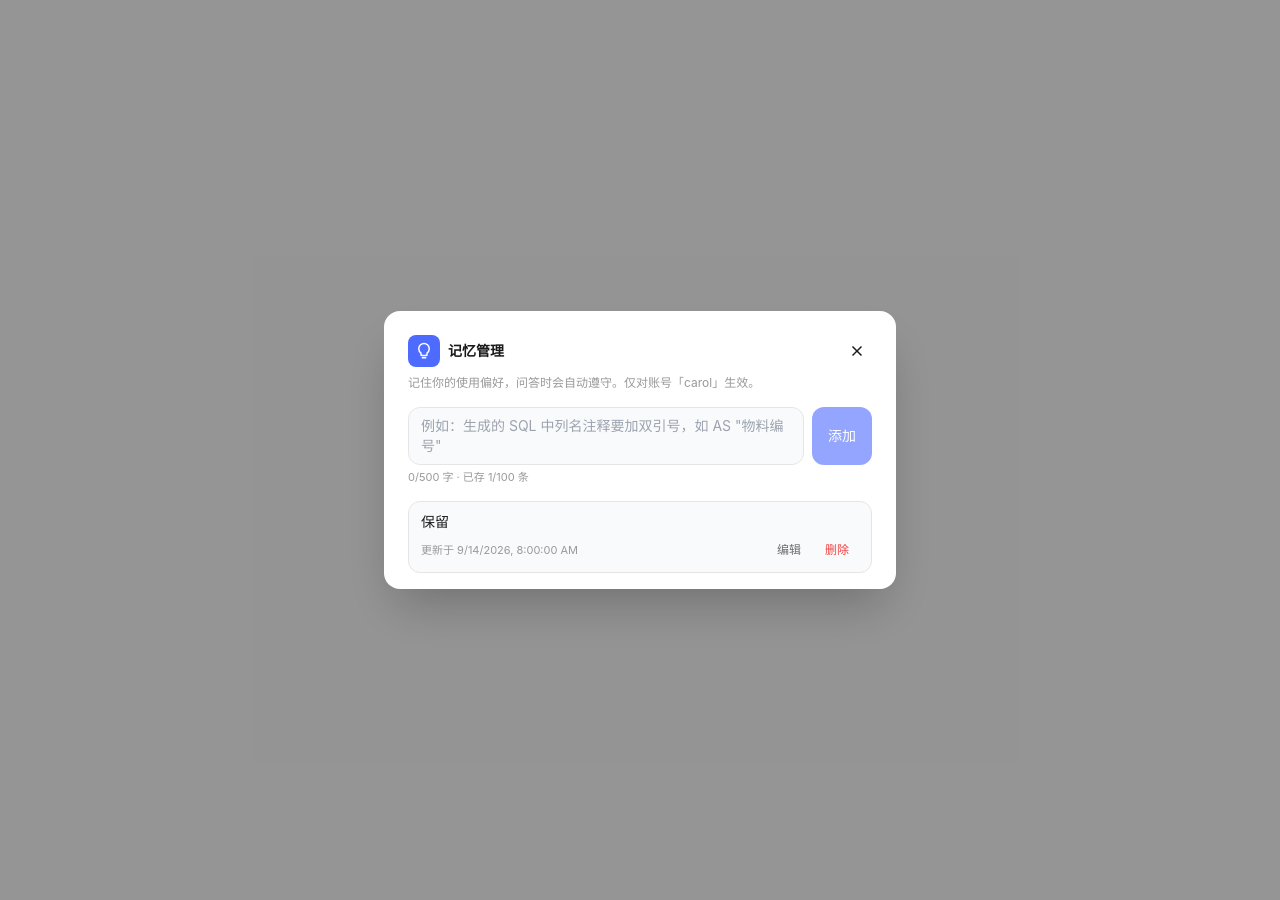
Test: MemoryManage › 接口报错时展示错误信息且不清空列表
The width and height of the screenshot is (1280, 900).
Expected: the text "保留" is shown, x1=421 y1=513 x2=449 y2=530
Type "再添一条" into the text box with placeholder "例如：生成的 SQL 中列名注释要加双引号，如 AS \"物料编号\"". click: (606, 436)
box: x1=408 y1=407 x2=804 y2=465
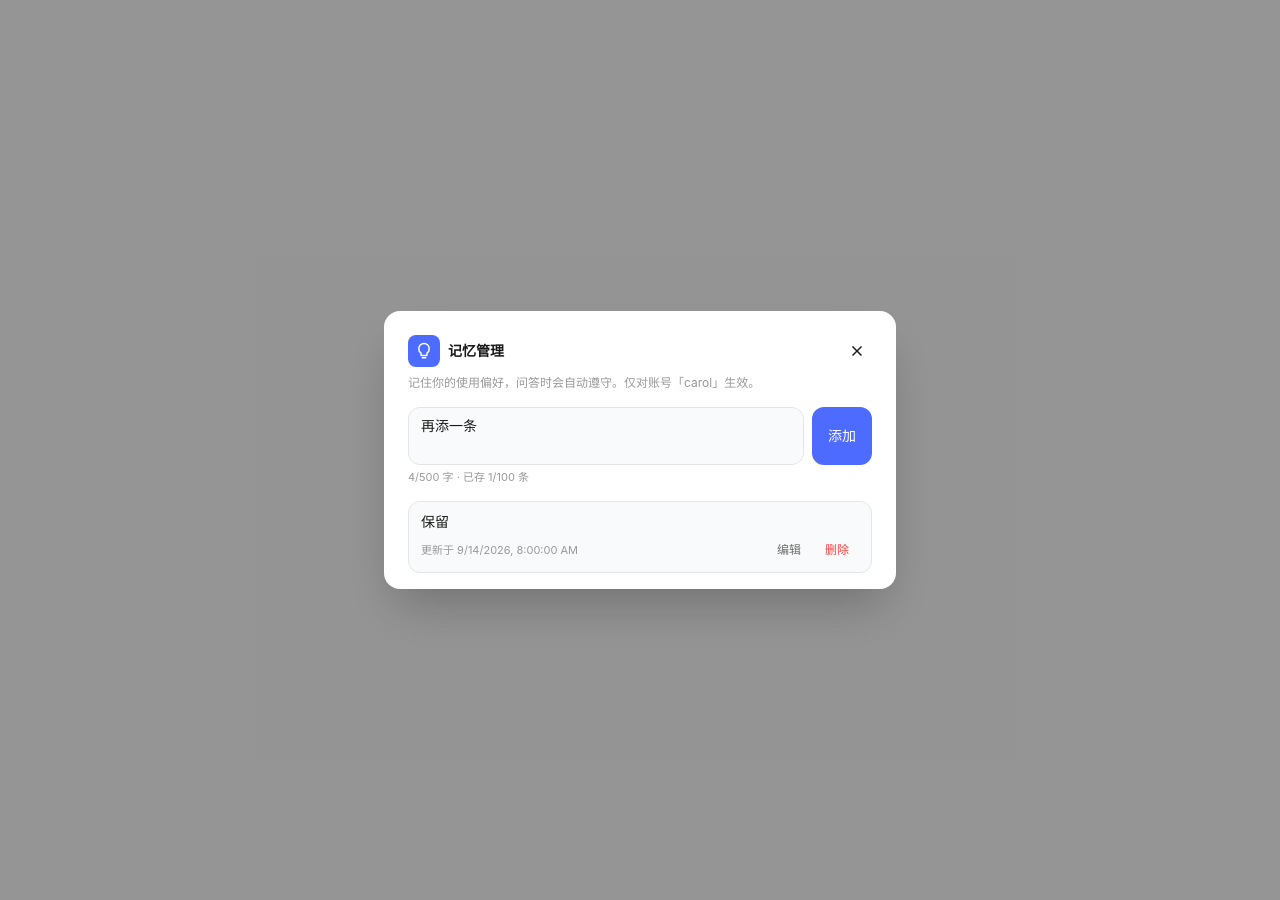
Click the button "添加". click: (842, 436)
box: x1=812 y1=407 x2=872 y2=465
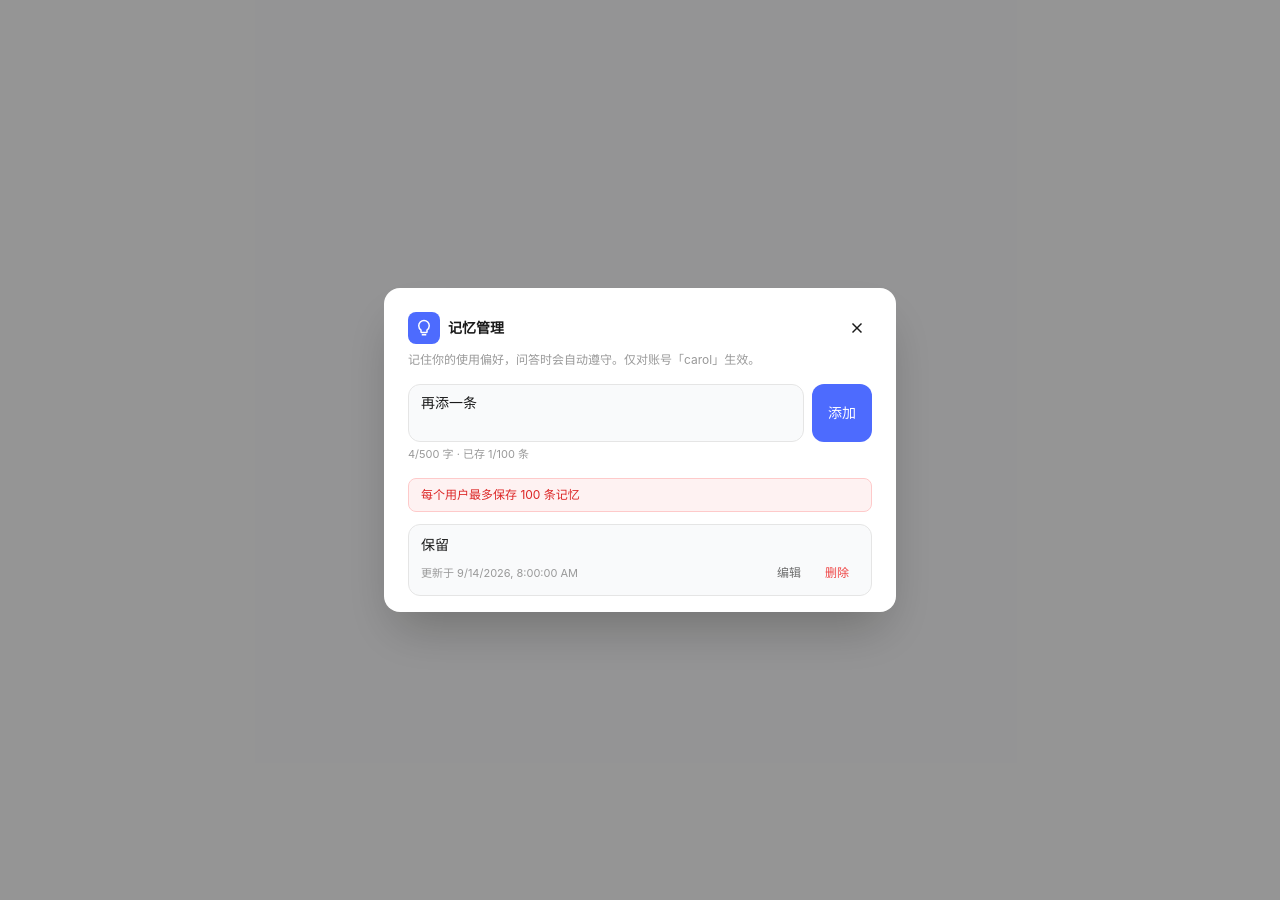
Expected: the text "保留" is shown, x1=421 y1=536 x2=449 y2=553
Now the text "每个用户最多保存 100 条记忆" is shown, box x1=408 y1=478 x2=872 y2=512
